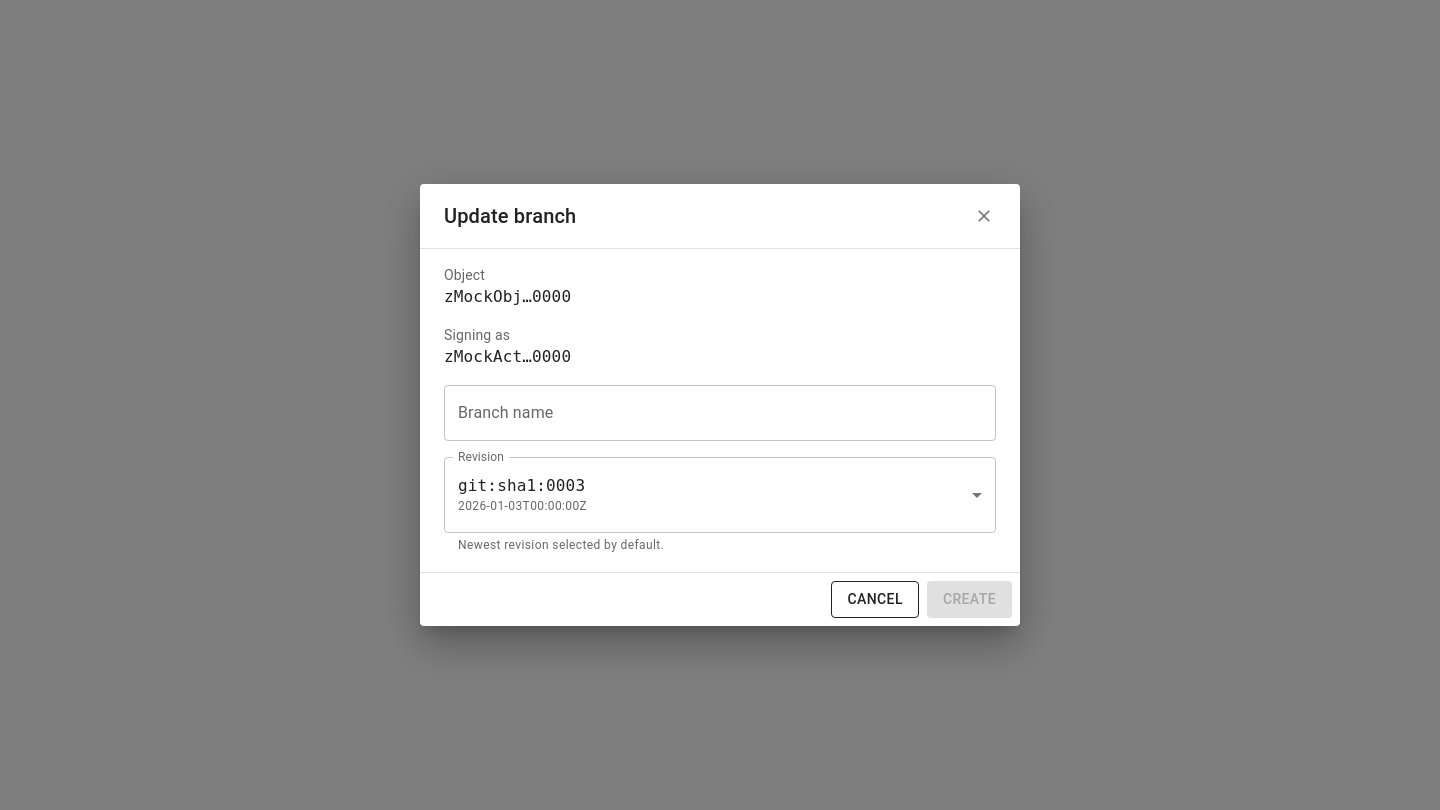
Scenario: <BranchUpdateDialog /> › shows the create hint when the name does not match an existing tip
Type "release-1.x" into the dropdown with test id "branch-name-input".
click(705, 413); type("release-1.x")  # box [453, 394, 957, 432]
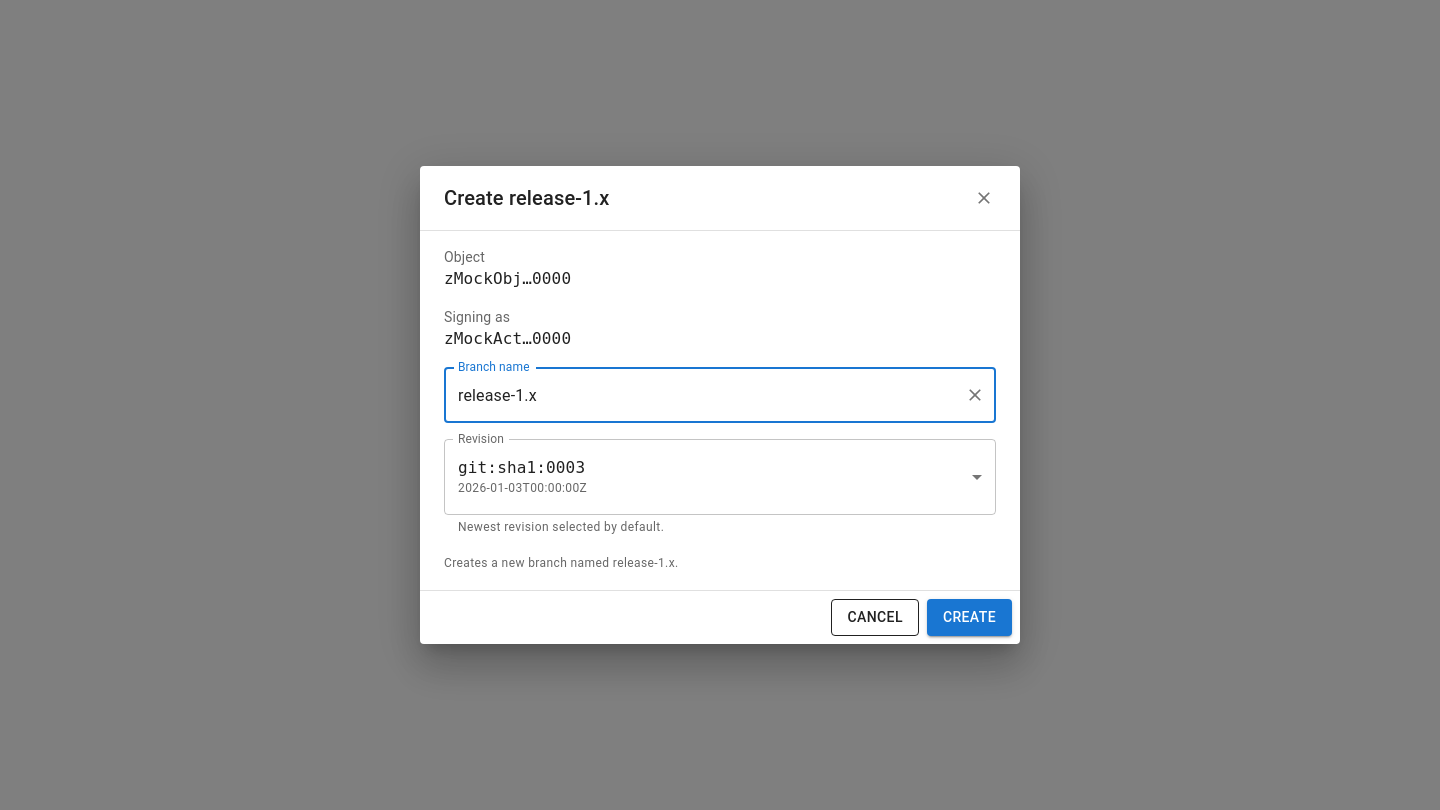
expect the button with test id "branch-update-submit" reads "Create": met, box [927, 599, 1012, 636]
expect the text with test id "branch-mode-hint" shows "Creates a new branch": met, box [444, 556, 679, 570]
